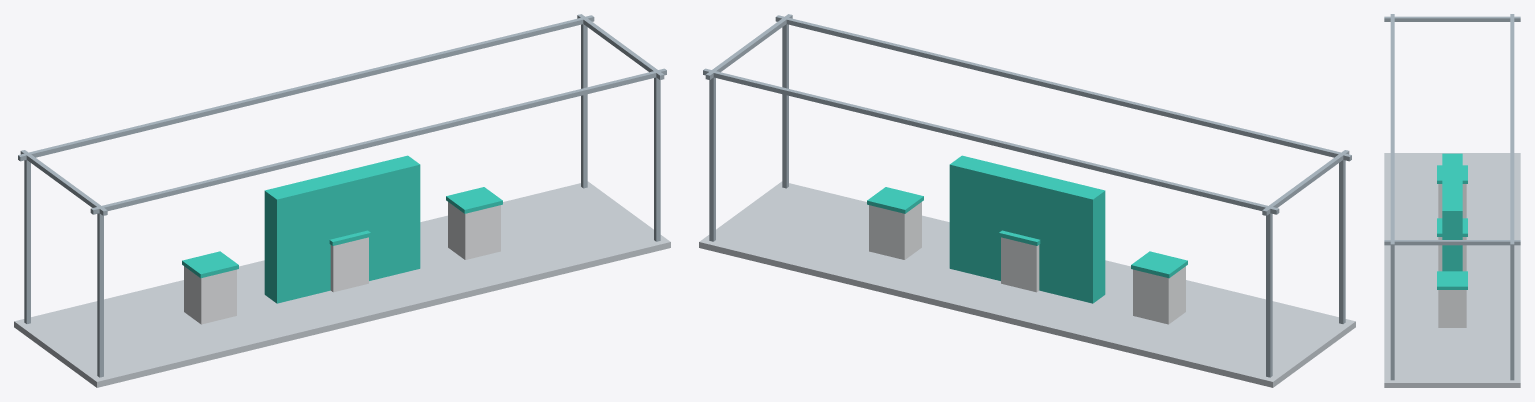
3 views of the same model, side by side, from view 1: azimuth 30°, elevation 25°; view 2: azimuth 150°, elevation 25°; view 3: azimuth 270°, elevation 25° (orthographic). The views are drawn at different scales.
Visible parts, largest first — view 1: Exhibition Booth Concept; view 2: Exhibition Booth Concept; view 3: Exhibition Booth Concept.
Part boxes in pixels (x1,y1,x2,y2): Exhibition Booth Concept: [14, 14, 670, 387]; Exhibition Booth Concept: [699, 14, 1355, 387]; Exhibition Booth Concept: [1384, 14, 1520, 387].
Bounding box in the file's own units: 12 × 3.49 × 3.
